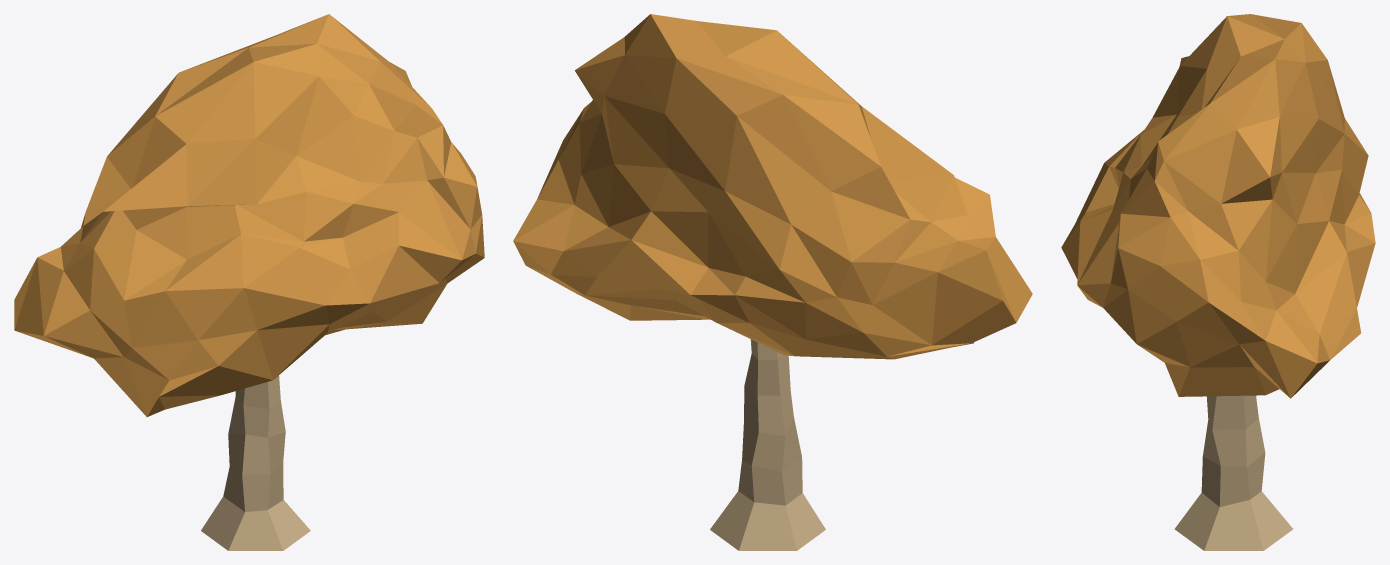
The model's file is Tree_01.fbx.
3 views of the same model, side by side, from view 1: azimuth 30°, elevation 25°; view 2: azimuth 150°, elevation 25°; view 3: azimuth 270°, elevation 25° (orthographic). The views are drawn at different scales.
Visible parts, largest first — view 1: Tree_1; view 2: Tree_1; view 3: Tree_1.
Boxes of the visible parts, x1,y1,x2,y2 form: Tree_1: [14, 14, 484, 550]; Tree_1: [513, 14, 1032, 550]; Tree_1: [1061, 14, 1375, 550].
Size of the model in its own units: 2427 by 2507 by 1377.
